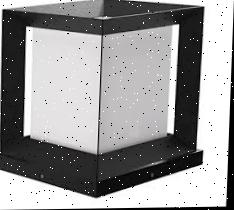cube: (0, 0, 204, 181), (27, 26, 173, 153)
